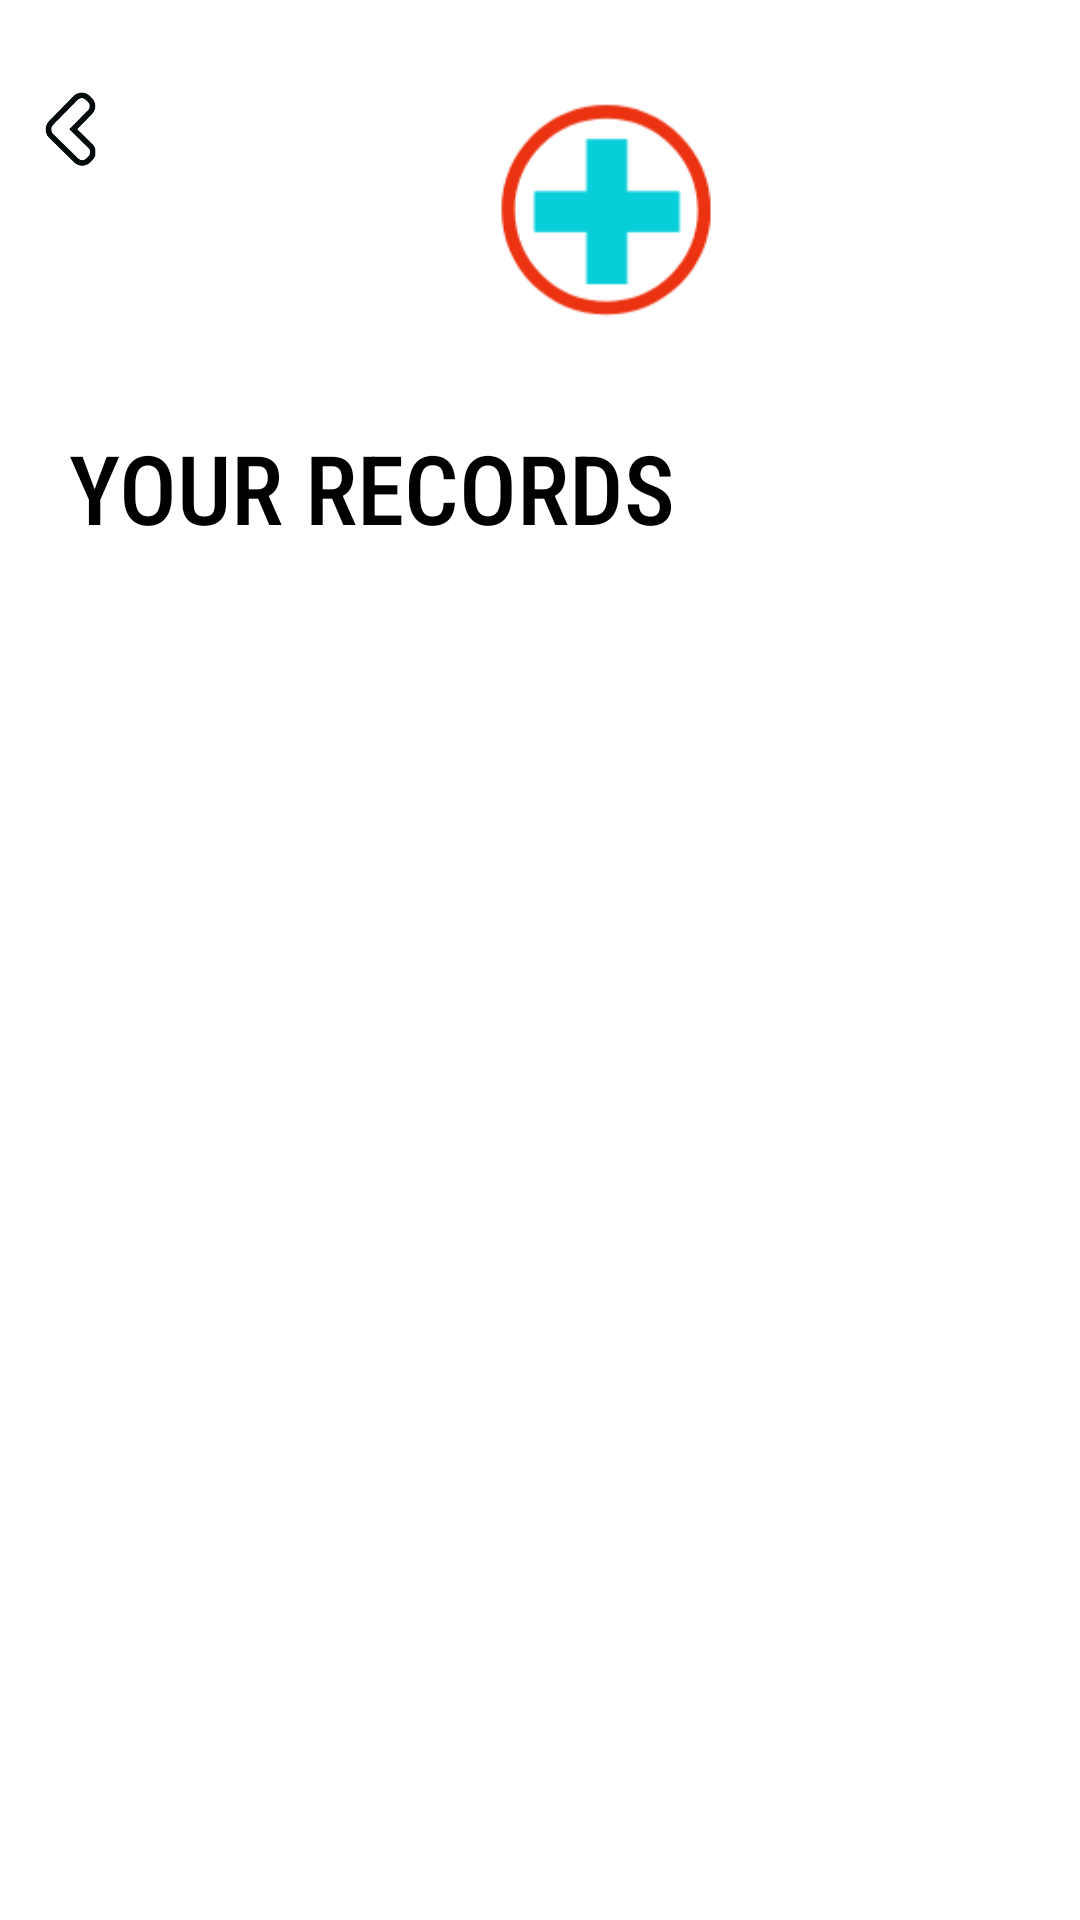

Icon click points for this 1080x1920 phone screenshot, format (x,y):
back: (70,129)
